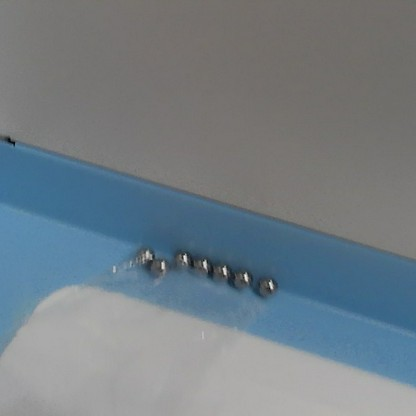ironball: (228, 263, 253, 290), (253, 272, 276, 296), (188, 250, 210, 273), (136, 241, 157, 265), (151, 255, 172, 279), (208, 260, 228, 279), (171, 244, 188, 265)
